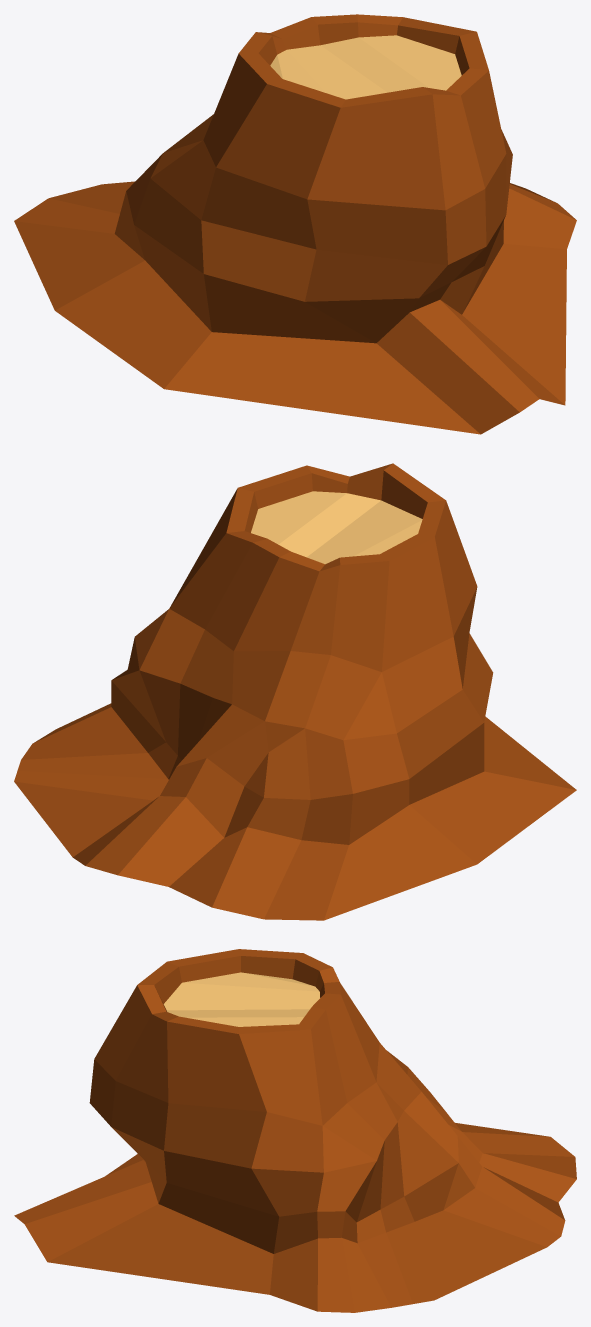
The model's file is Log_06.fbx.
3 views of the same model, one above another, from view 1: azimuth 30°, elevation 25°; view 2: azimuth 150°, elevation 25°; view 3: azimuth 270°, elevation 25° (orthographic). The views are drawn at different scales.
Visible parts, largest first — view 1: Log_06; view 2: Log_06; view 3: Log_06.
Part boxes in pixels (x1,y1,x2,y2): Log_06: (14, 14, 576, 434); Log_06: (14, 463, 576, 920); Log_06: (14, 949, 576, 1312).
Size of the model in its own units: 164 by 93.43 by 194.
